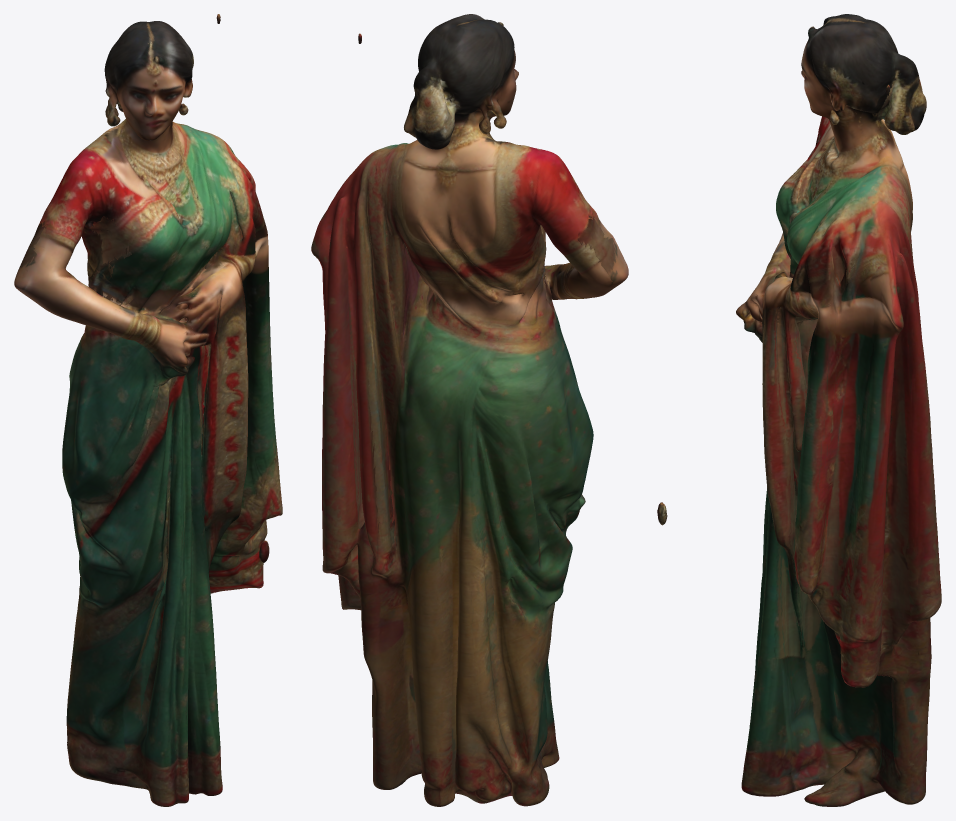
File: traditional_indian_saree_model.glb
3 renders of one model, left to right at view 1: azimuth 30°, elevation 25°; view 2: azimuth 150°, elevation 25°; view 3: azimuth 270°, elevation 25°, orthographic. The views are drawn at different scales.
Visible parts, largest first — view 1: Mesh1_Mesh1.124; view 2: Mesh1_Mesh1.124; view 3: Mesh1_Mesh1.124.
Part boxes in pixels (box(x1,y1,x2,y2)): Mesh1_Mesh1.124: box(14, 14, 282, 806); Mesh1_Mesh1.124: box(311, 14, 628, 806); Mesh1_Mesh1.124: box(657, 14, 941, 806).
Size of the model in its own units: 0.7649 by 2 by 0.6695.
1 material, 1 textured.
